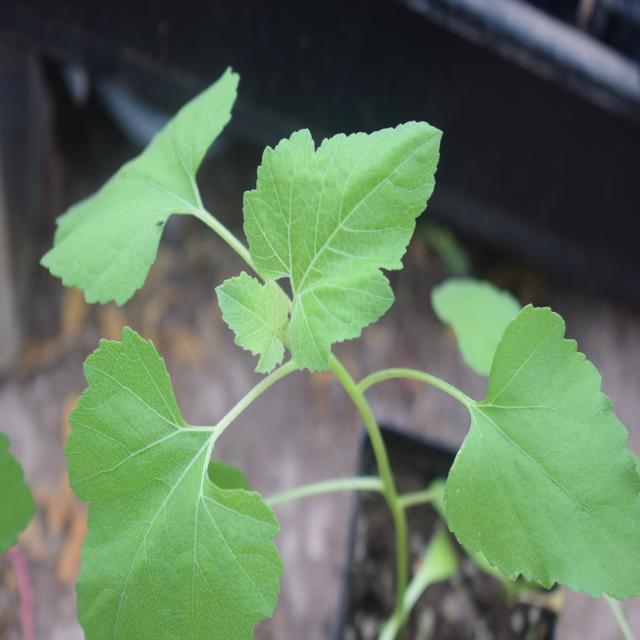cocklebur: (37, 65, 616, 631)
